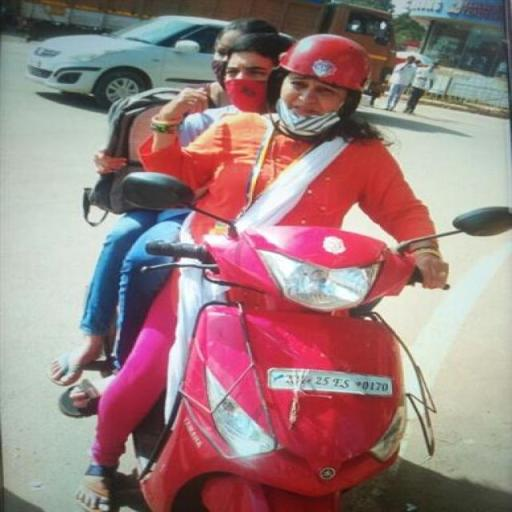tripple riding: (69, 12, 512, 305)
